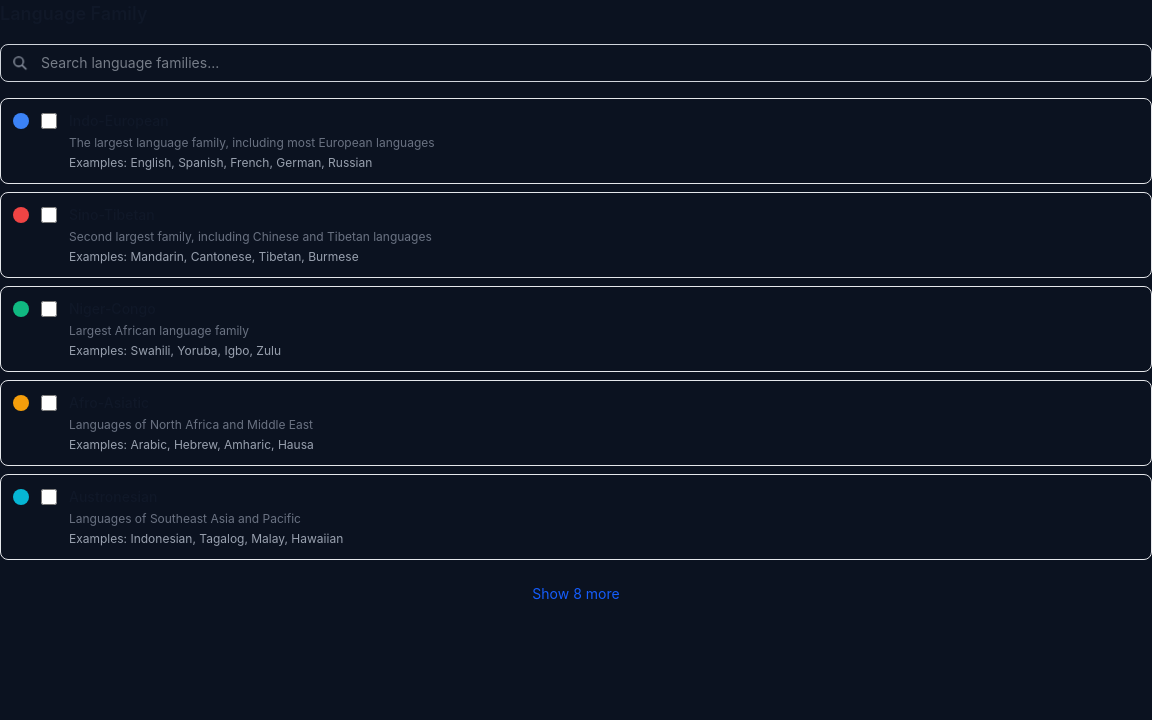
Test case: LanguageFamilyFilter › 折叠功能 › 应该支持展开和折叠
This screenshot has width=1152, height=720.
Expected: the number of checkboxes is 5, [41, 113, 57, 129]; [41, 207, 57, 223]; [41, 301, 57, 317]; [41, 395, 57, 411]; [41, 489, 57, 505]
Click the button "Show 8 more": coordinates (576, 594) [0, 576, 1151, 612]
(page scrolled)
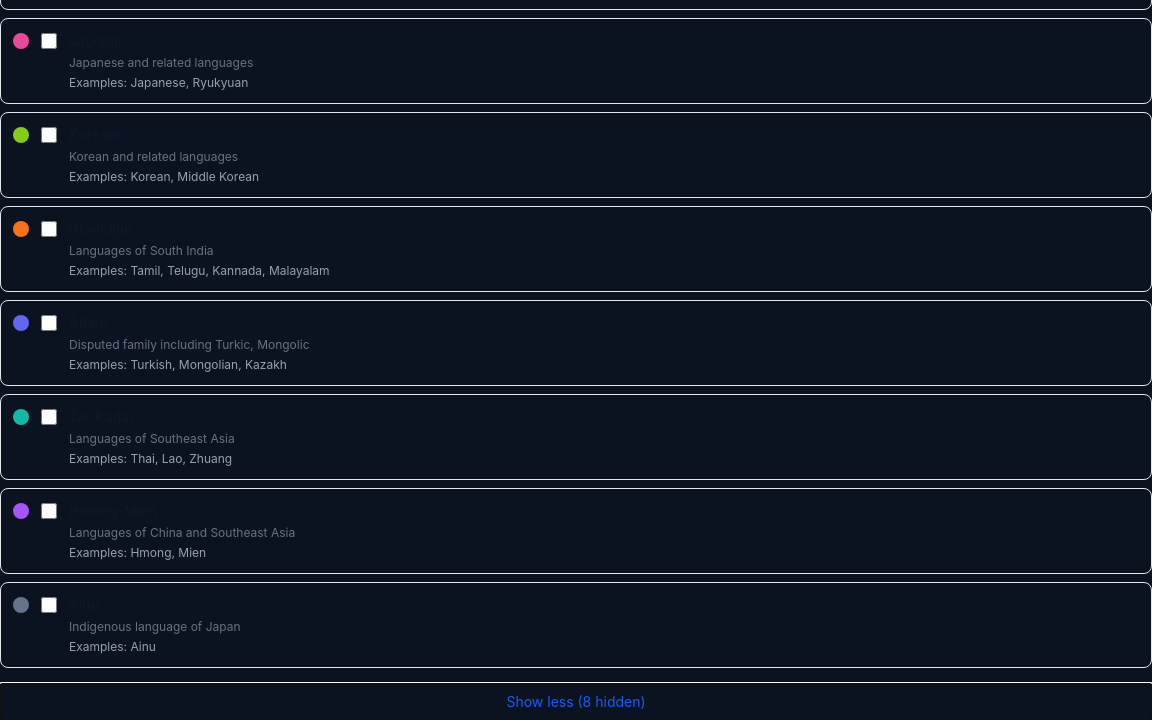
Now the number of checkboxes is 13
Now the button "Show less (8 hidden)" is shown
Click the button "Show less (8 hidden)": coordinates (576, 702) [0, 684, 1151, 719]
(page scrolled)
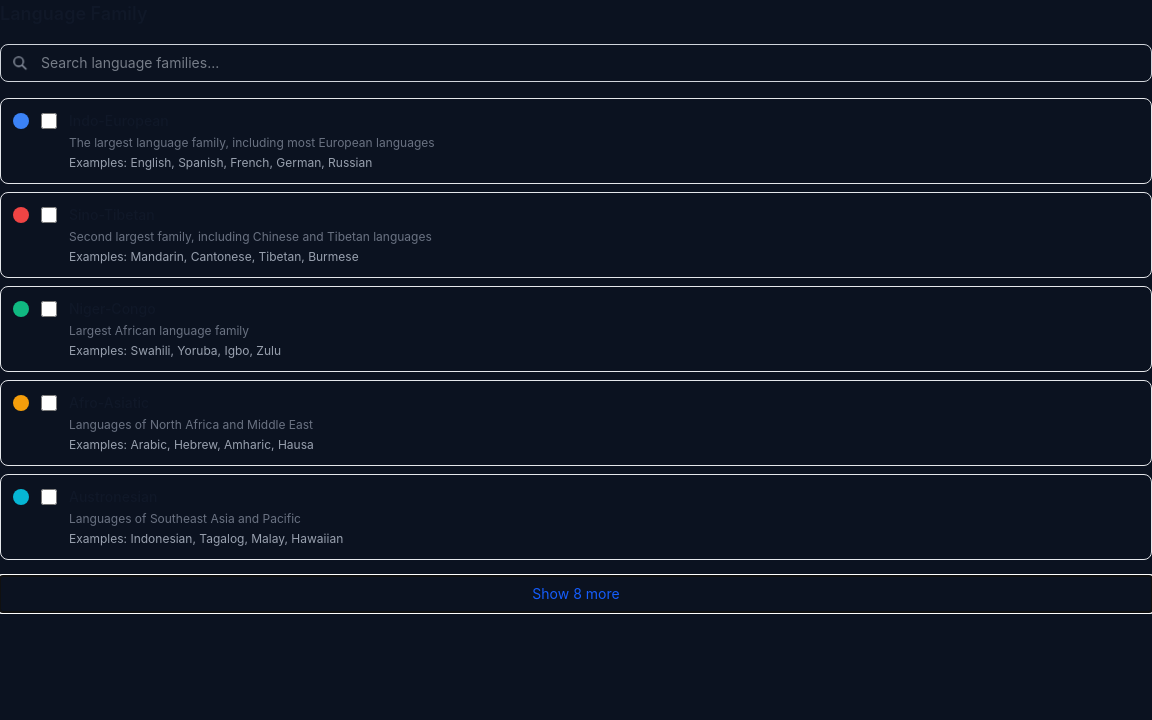
Now the number of checkboxes is 5, box [41, 113, 57, 129]; [41, 207, 57, 223]; [41, 301, 57, 317]; [41, 395, 57, 411]; [41, 489, 57, 505]
